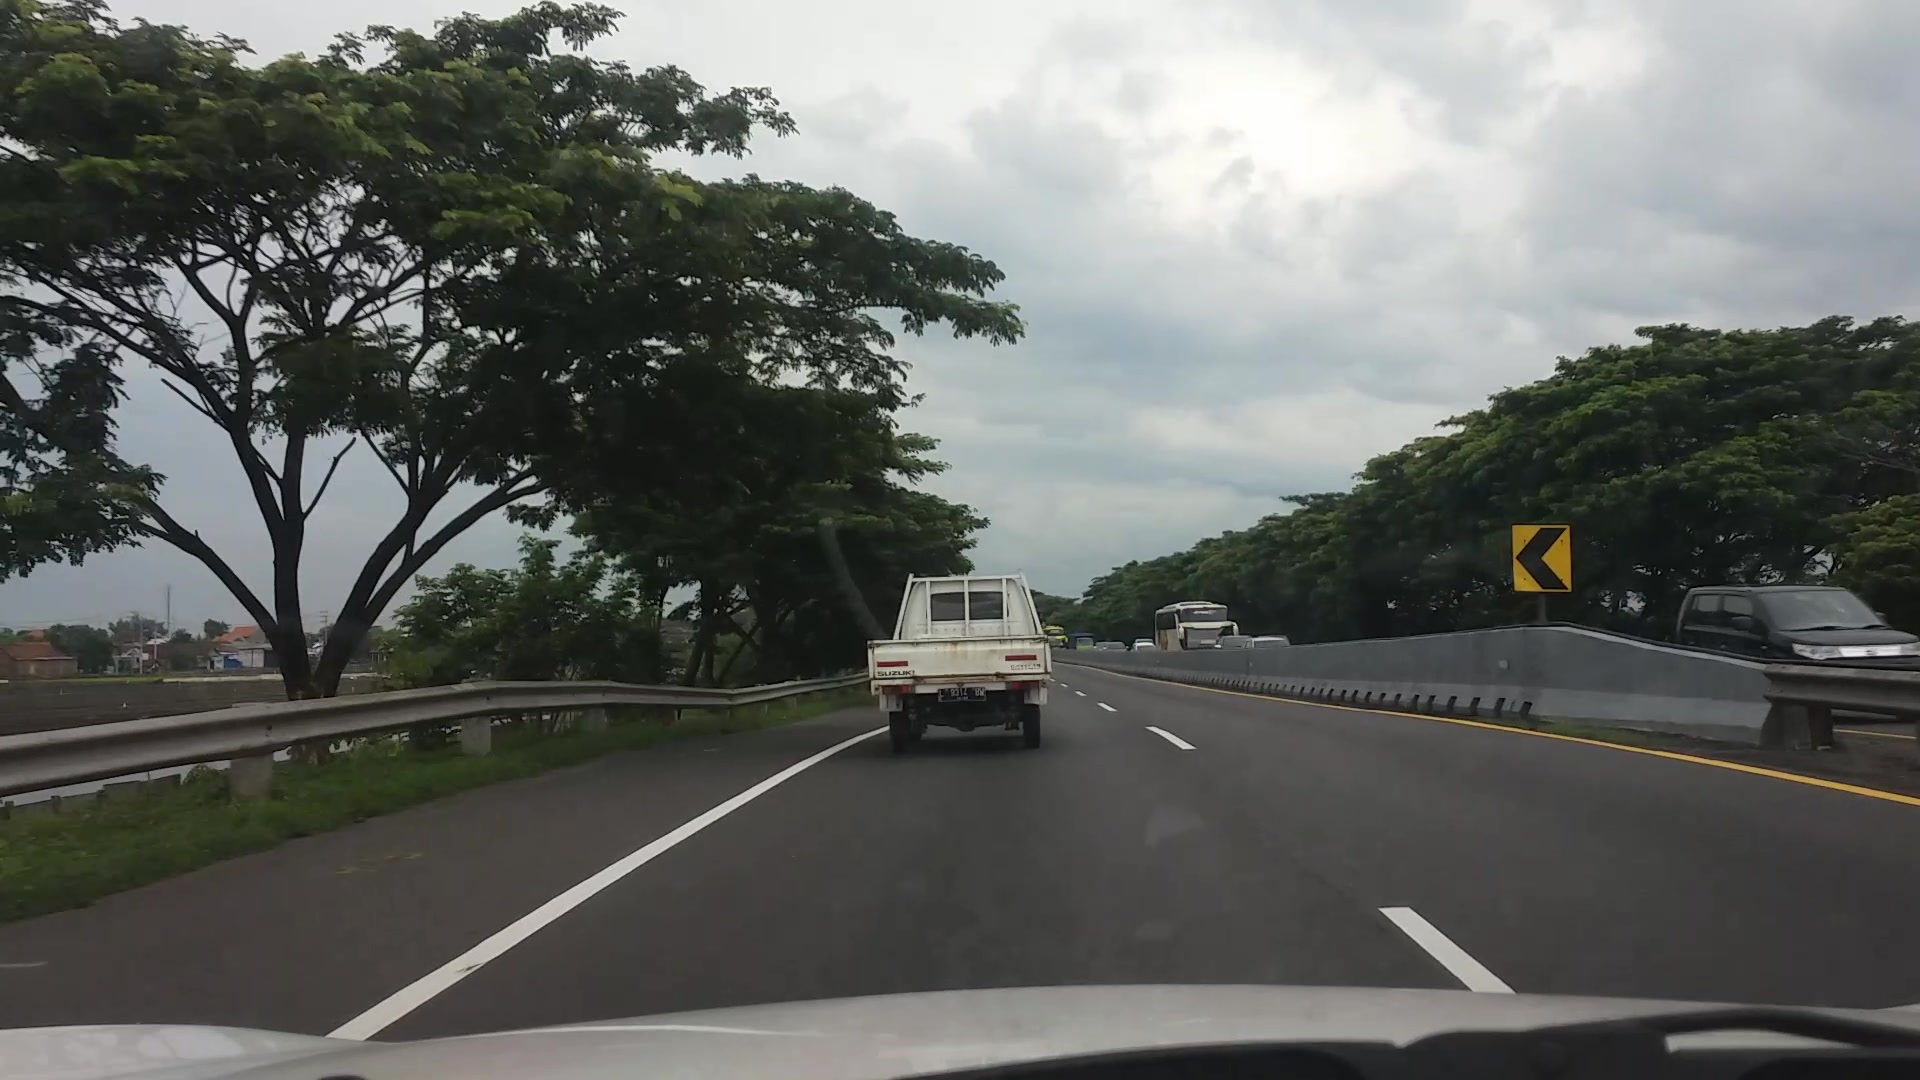plate_positive: (938, 687, 985, 702)
